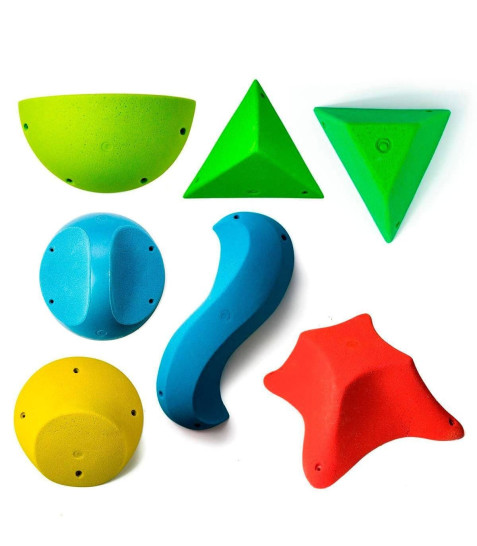hold: (265, 313, 461, 486), (155, 210, 292, 428), (315, 107, 449, 241), (17, 92, 192, 191), (15, 357, 141, 486), (40, 213, 163, 339)
volume: (183, 79, 321, 197)
